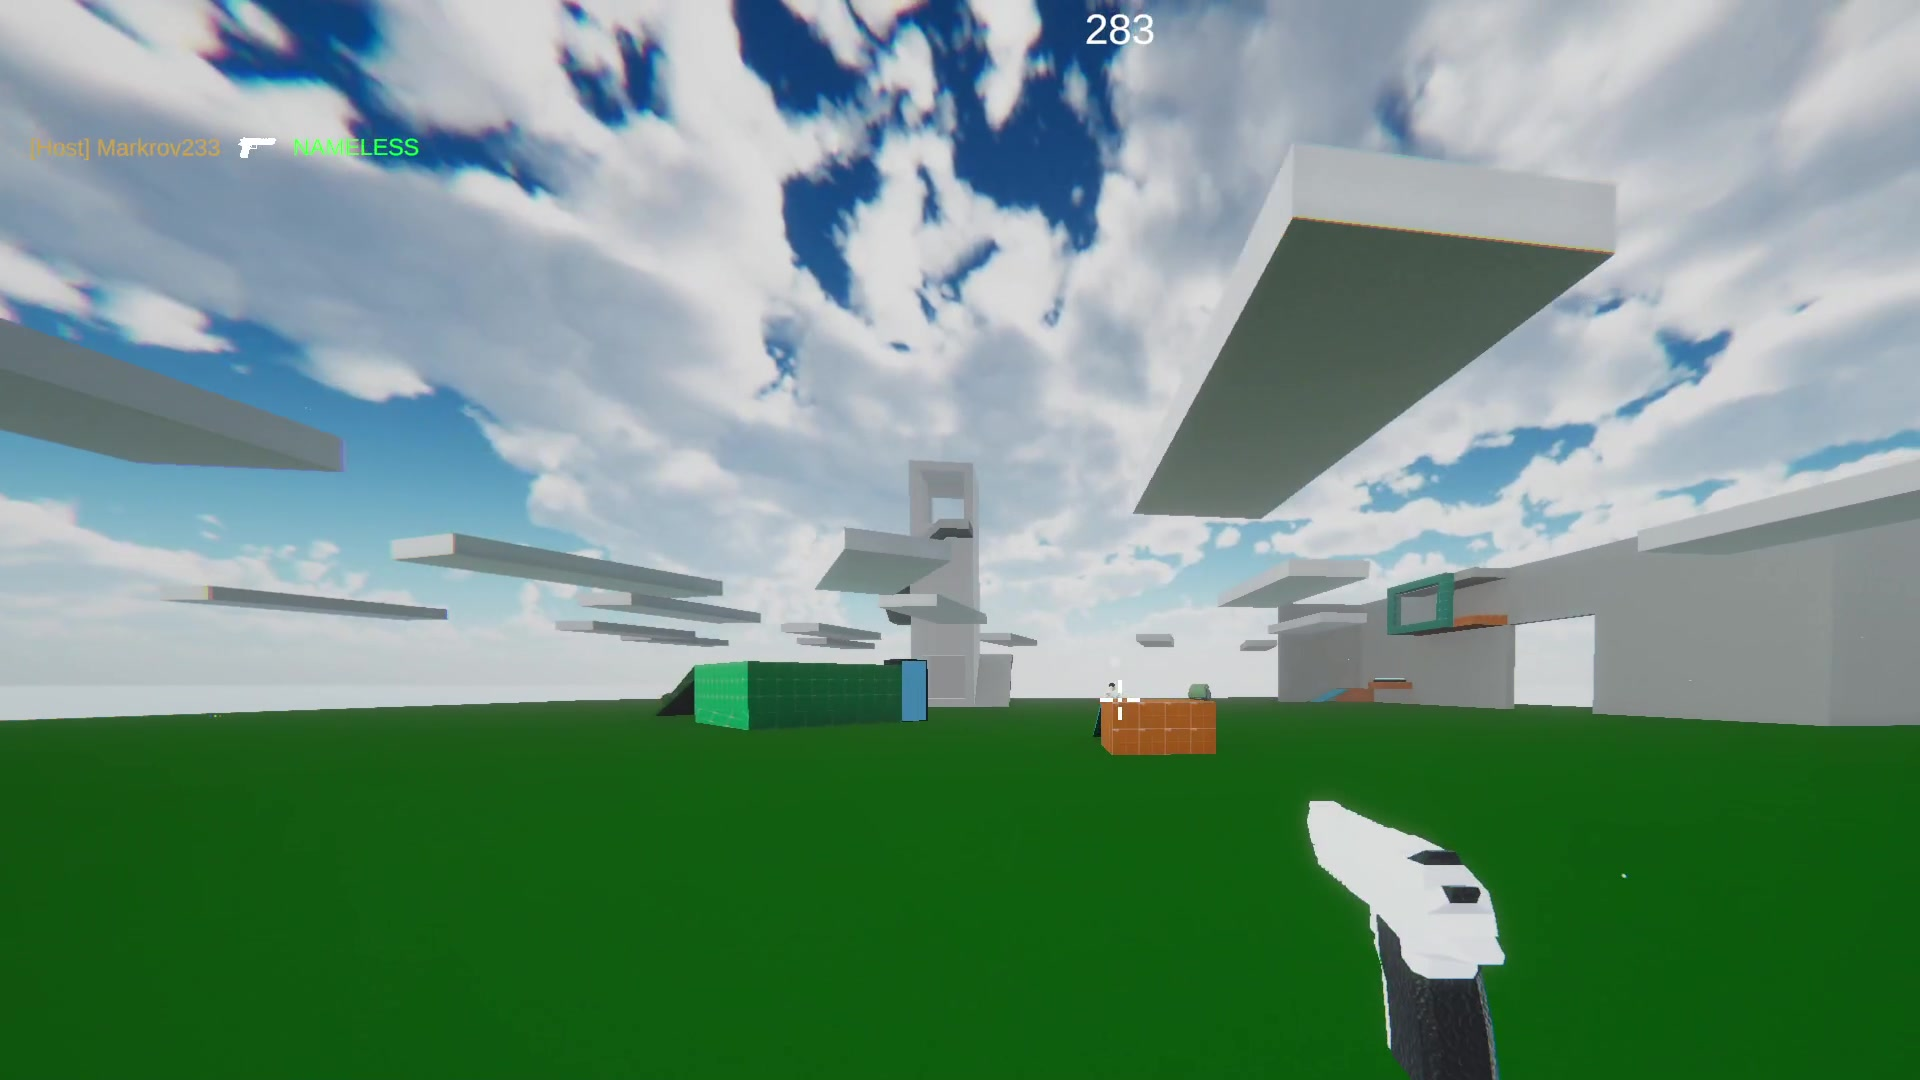human: (1108, 680, 1123, 701)
